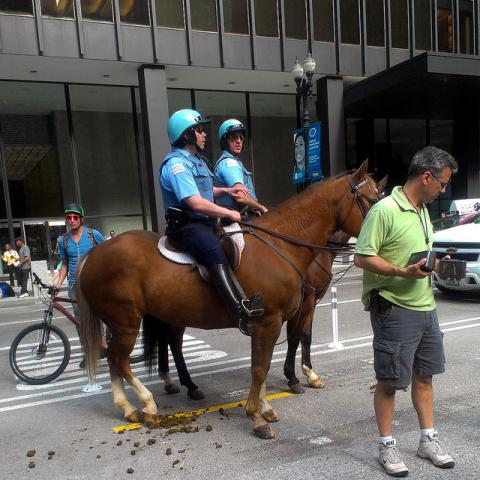car: (429, 216, 479, 297), (430, 202, 480, 232)
